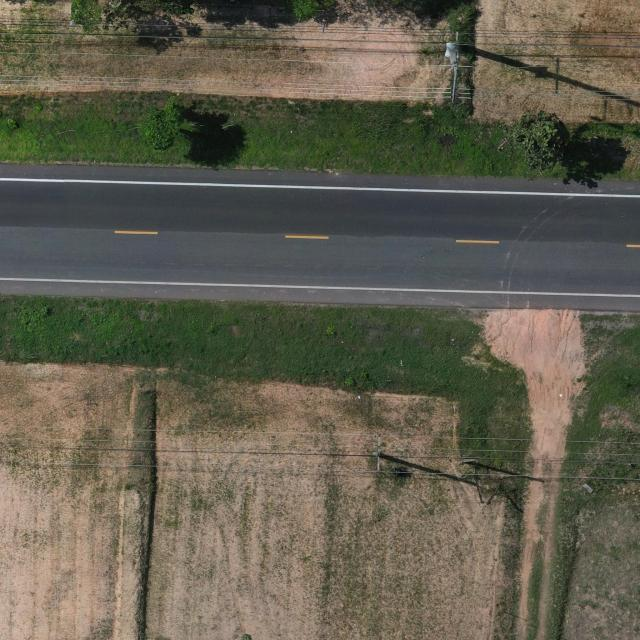Tree: (496, 110, 574, 175), (101, 0, 197, 33), (144, 97, 186, 151), (70, 0, 102, 36)
